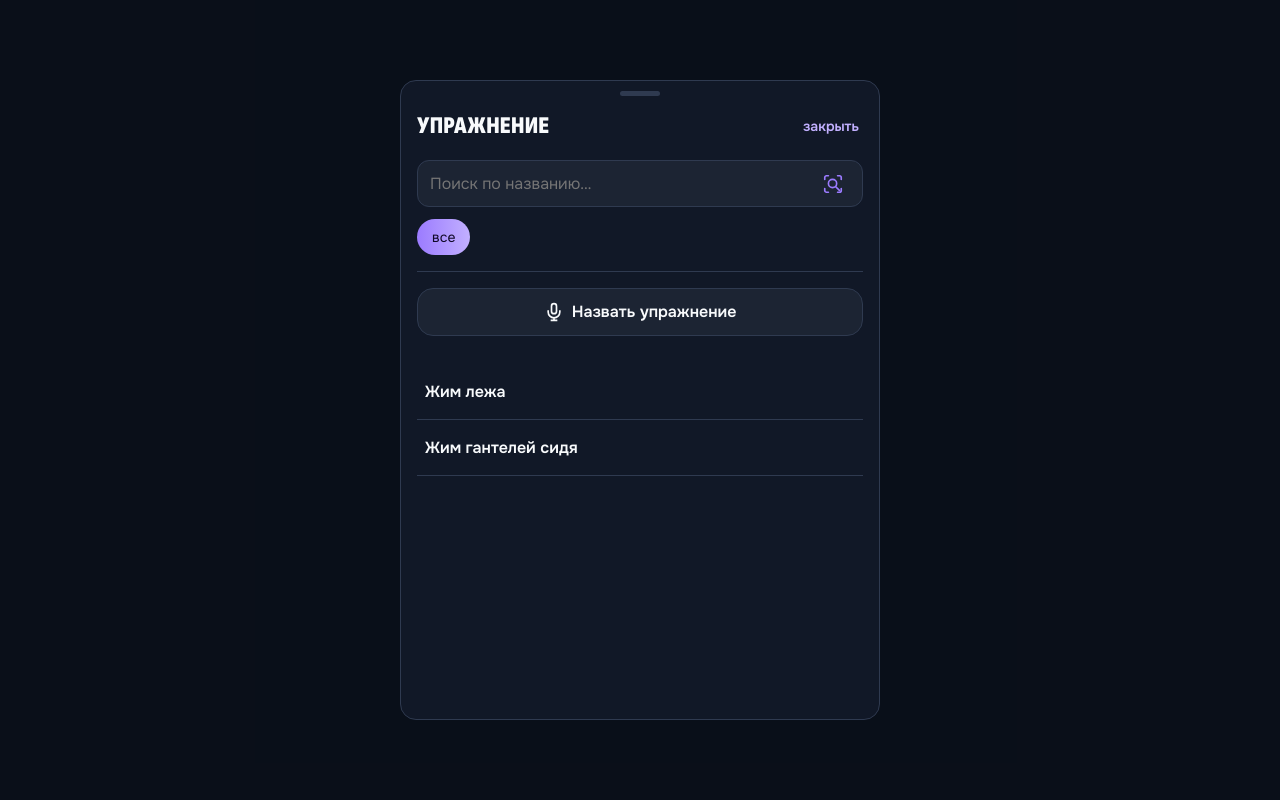
it: voice in ExercisePicker › does not abort again after a natural end
Click the button "Назвать упражнение".
click(640, 312)  # box [417,288,863,336]
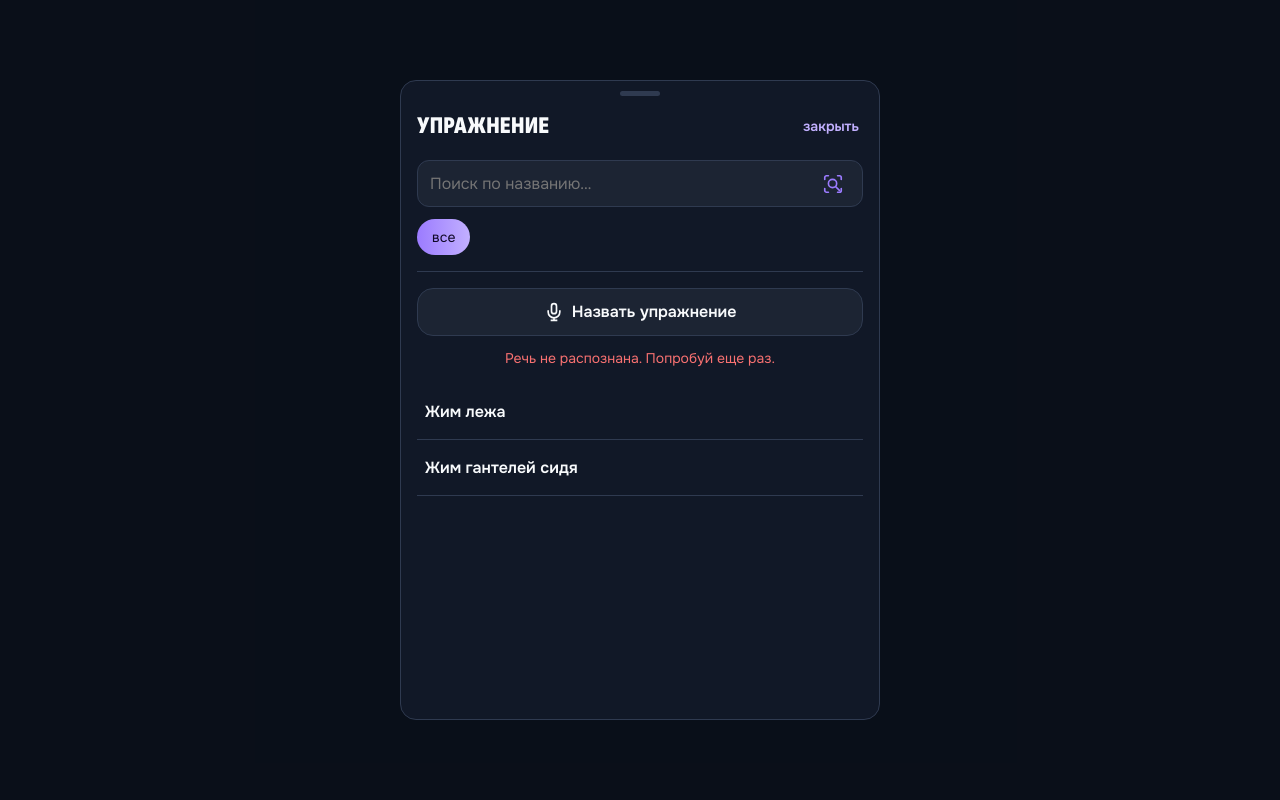
Check: the message "Речь не распознана. Попробуй еще раз." is shown, box [505,349,775,367]
